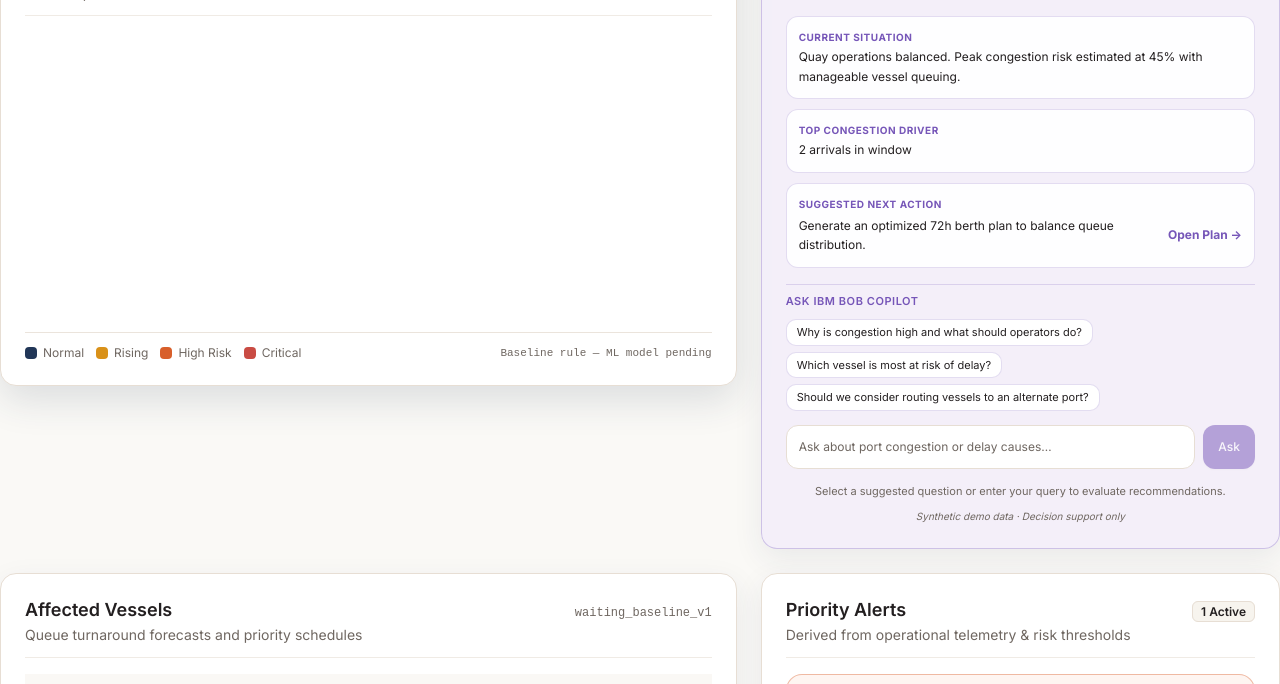
Test: DashboardPage › shows copilot error state when API fails
(page scrolled)
Check: the button with test id "copilot-ask-btn" is shown, box [1203,424,1255,468]
Click the button "Why is congestion high and what should operators do?": (939, 332) [786,319,1093,346]
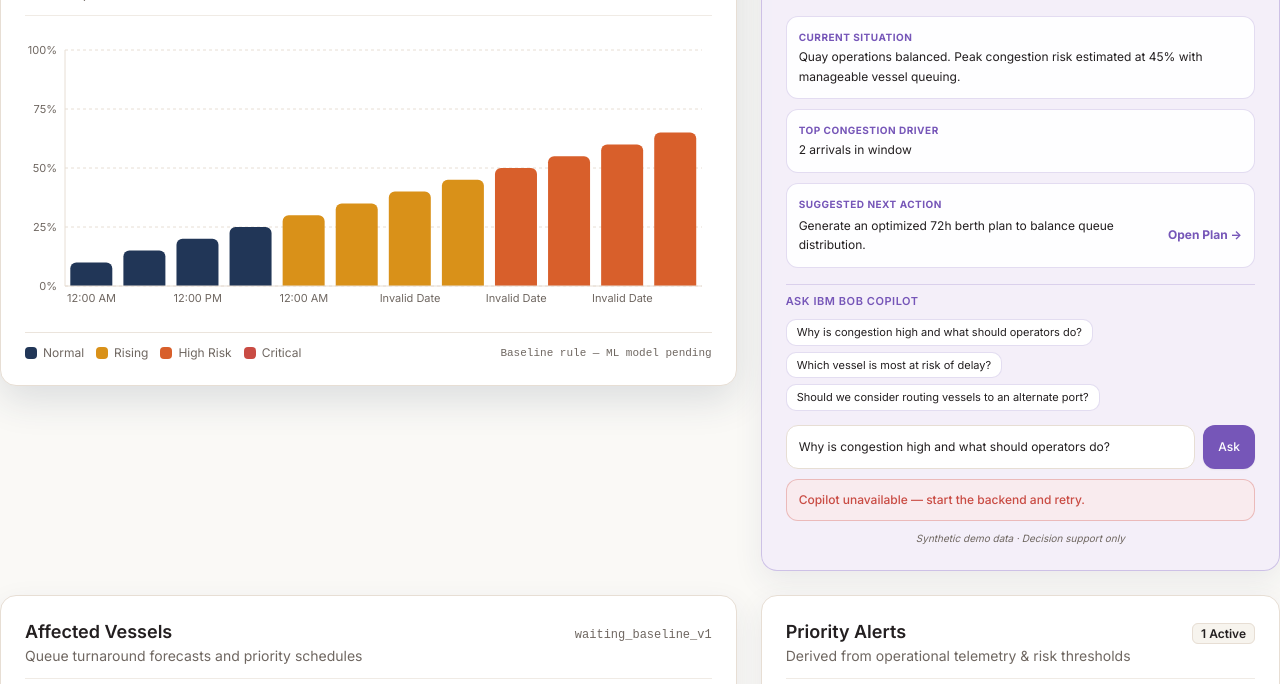
Check: the element with test id "copilot-error" is shown, box [786,478,1255,520]
